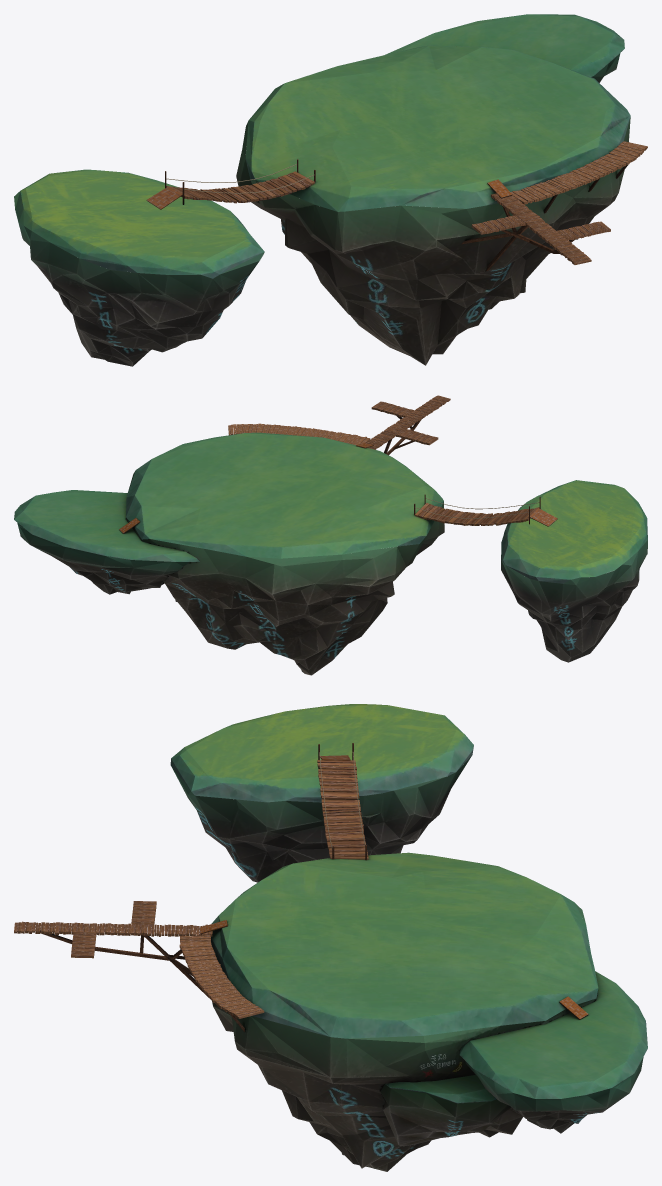
File: island.glb
3 views of the same model, one above another, from view 1: azimuth 30°, elevation 25°; view 2: azimuth 150°, elevation 25°; view 3: azimuth 270°, elevation 25° (orthographic). The views are drawn at different scales.
Visible parts, largest first — view 1: Main_island, Merchant_island, Mechanic_island, Texture_set_magenta, Texture_set_blue, Texture_set_orange; view 2: Main_island, Merchant_island, Mechanic_island, Texture_set_magenta, Texture_set_orange; view 3: Main_island, Merchant_island, Mechanic_island, Texture_set_magenta, Of_shoot_island, Texture_set_blue, Texture_set_orange.
Boxes of the visible parts, x1=… form: Main_island: x1=236, y1=45, x2=630, y2=365; Merchant_island: x1=14, y1=169, x2=264, y2=366; Mechanic_island: x1=385, y1=14, x2=624, y2=82; Texture_set_magenta: x1=166, y1=141, x2=647, y2=264; Texture_set_blue: x1=165, y1=159, x2=627, y2=271; Texture_set_orange: x1=146, y1=179, x2=512, y2=209; Main_island: x1=125, y1=432, x2=444, y2=675; Merchant_island: x1=501, y1=480, x2=647, y2=662; Mechanic_island: x1=14, y1=490, x2=199, y2=594; Texture_set_magenta: x1=228, y1=395, x2=539, y2=525; Texture_set_orange: x1=119, y1=443, x2=557, y2=533; Main_island: x1=211, y1=852, x2=598, y2=1171; Merchant_island: x1=170, y1=704, x2=473, y2=882; Mechanic_island: x1=459, y1=971, x2=647, y2=1133; Texture_set_magenta: x1=14, y1=760, x2=368, y2=1018; Of_shoot_island: x1=380, y1=1074, x2=511, y2=1146; Texture_set_blue: x1=37, y1=743, x2=366, y2=1031; Texture_set_orange: x1=199, y1=755, x2=588, y2=1019.
Bounding box in the file's own units: 172 × 63.96 × 128.
Materials: 12 (12 with a texture image).
